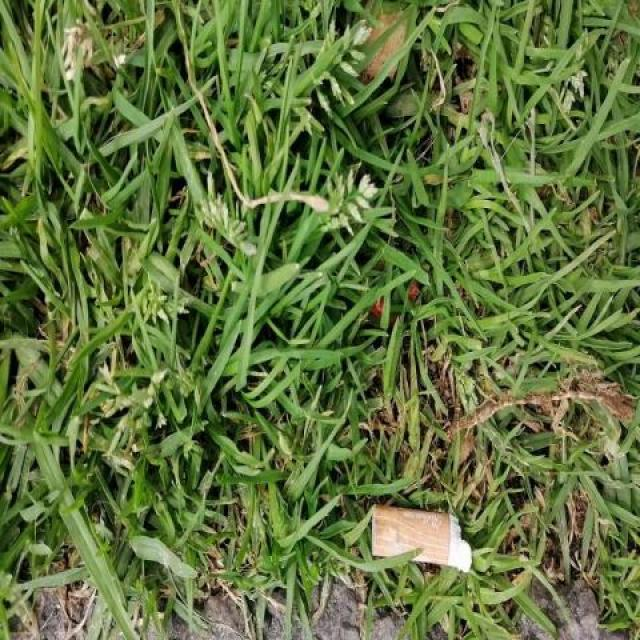non-organic waste: (366, 498, 474, 578)
